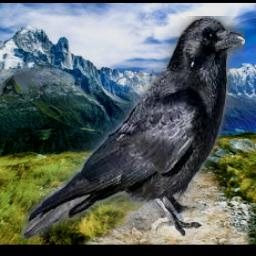Crow: (21, 16, 245, 239)
